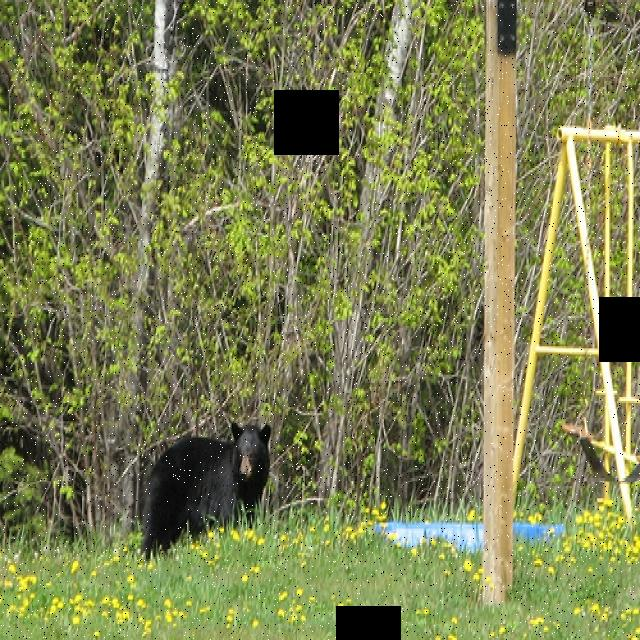Bear: (130, 415, 274, 562)
